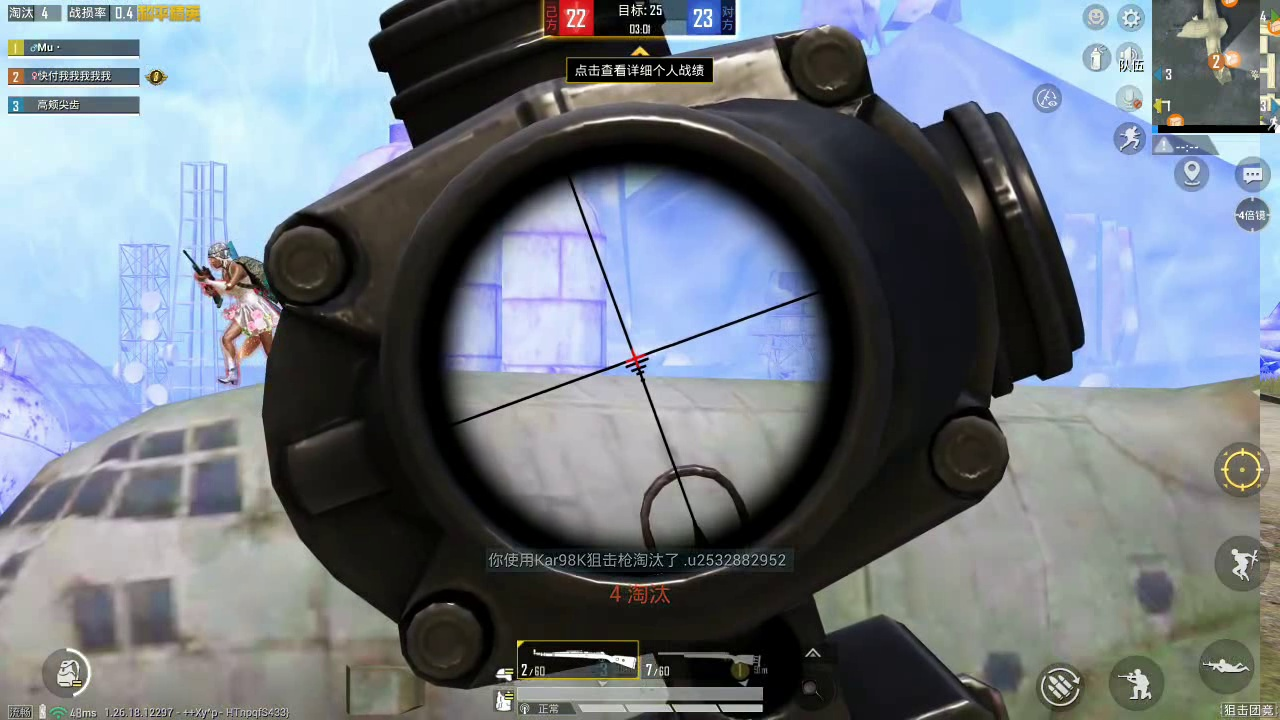enemy: (186, 237, 282, 377)
